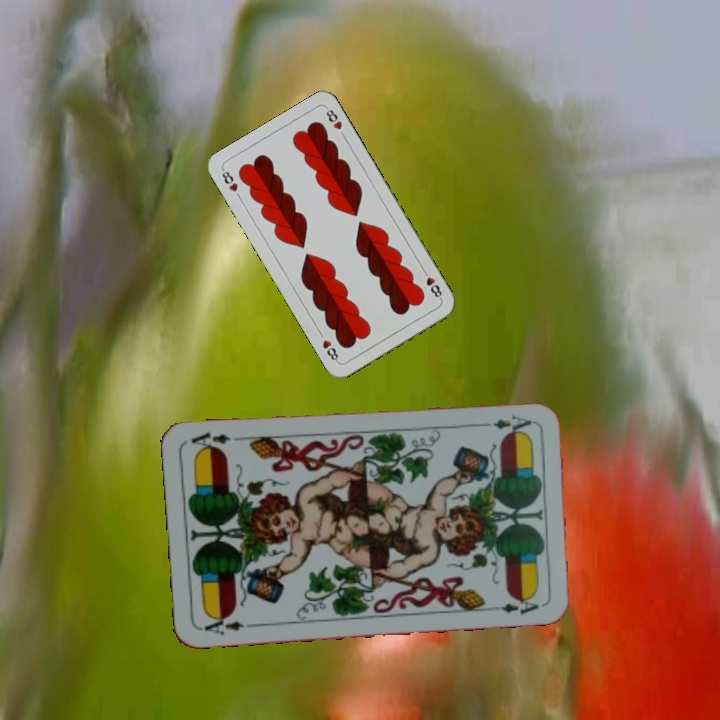EA: (200, 611, 257, 638), (475, 410, 534, 432)
H8: (419, 265, 445, 302), (218, 165, 244, 202)
